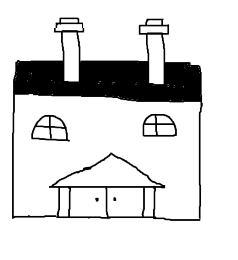chimney: (49, 13, 93, 86), (132, 13, 173, 85)
closed_window: (24, 110, 72, 147), (136, 108, 180, 143)
door: (50, 154, 170, 225)
shaded_roof: (4, 54, 216, 107)
wall: (7, 90, 209, 225)
